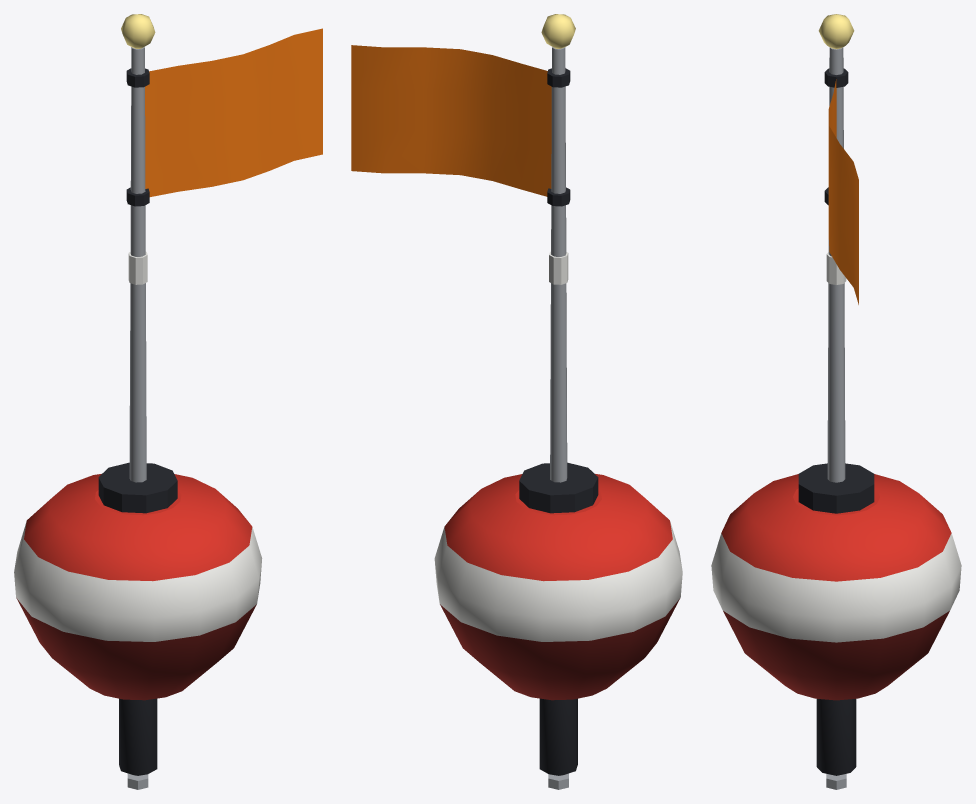
The model's file is buoy_waypoint.obj.
3 views of the same model, side by side, from view 1: azimuth 30°, elevation 25°; view 2: azimuth 150°, elevation 25°; view 3: azimuth 270°, elevation 25° (orthographic).
Parts seen in each view (by area): view 1: Body, Flag; view 2: Body, Flag; view 3: Body, Flag.
Boxes of the visible parts, x1,y1,x2,y2 form: Body: [14, 14, 262, 789]; Flag: [145, 28, 322, 196]; Body: [434, 14, 682, 789]; Flag: [351, 45, 551, 196]; Body: [711, 14, 961, 789]; Flag: [828, 79, 858, 304].
Bounding box in the file's own units: 1.77 × 4.3 × 1.26.
Materials: 2 (2 with a texture image).
